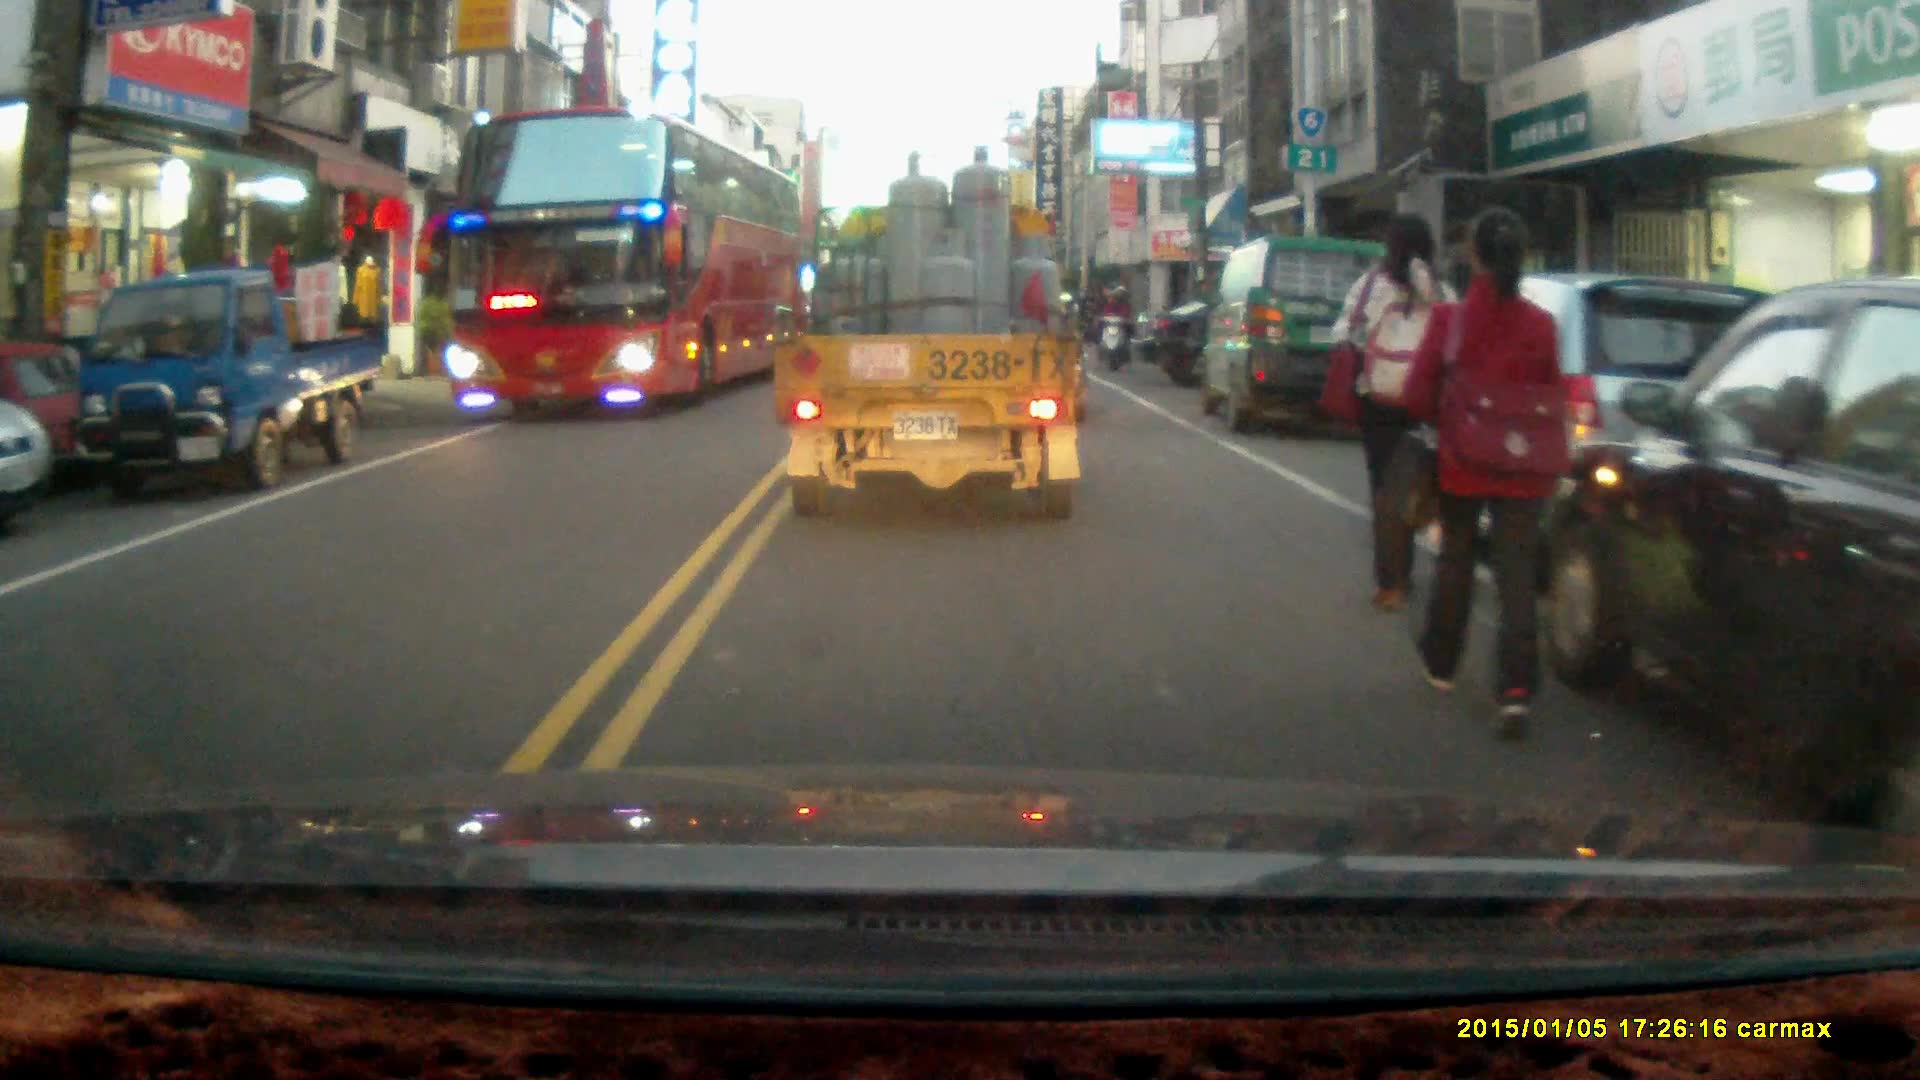pedestrian: (1401, 200, 1574, 739), (1338, 205, 1465, 619)
rider: (1093, 283, 1134, 372)
vehicle: (1526, 284, 1920, 833), (772, 144, 1089, 522), (438, 107, 803, 423), (72, 272, 372, 495), (1203, 234, 1403, 430), (1132, 299, 1423, 394)
